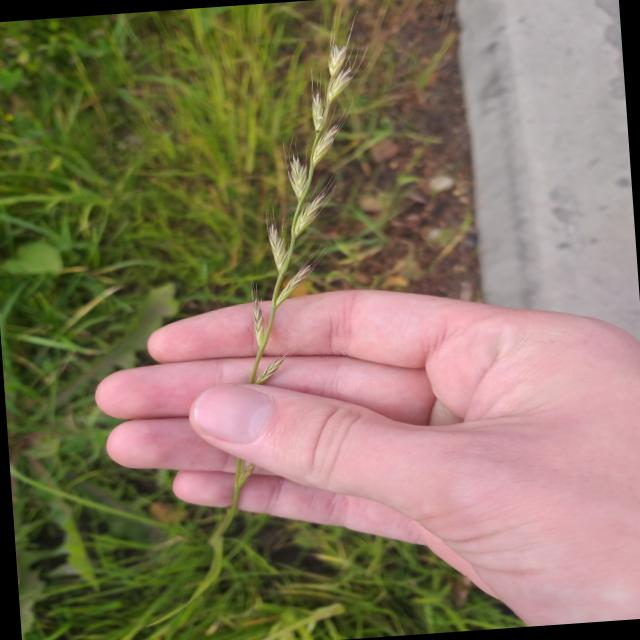Lolium: (216, 8, 388, 387)
